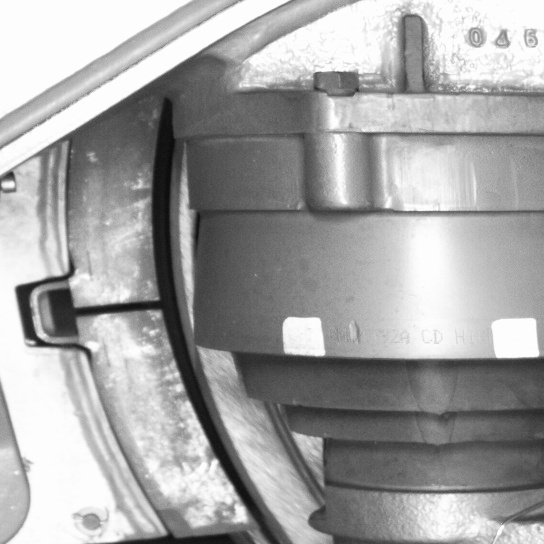KnifeSwitch: (80, 133, 294, 541)
